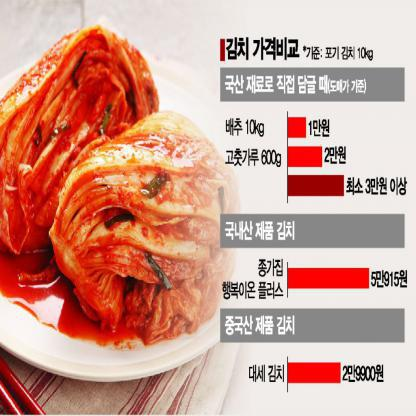kimchi: (43, 127, 220, 348), (0, 35, 159, 259)
